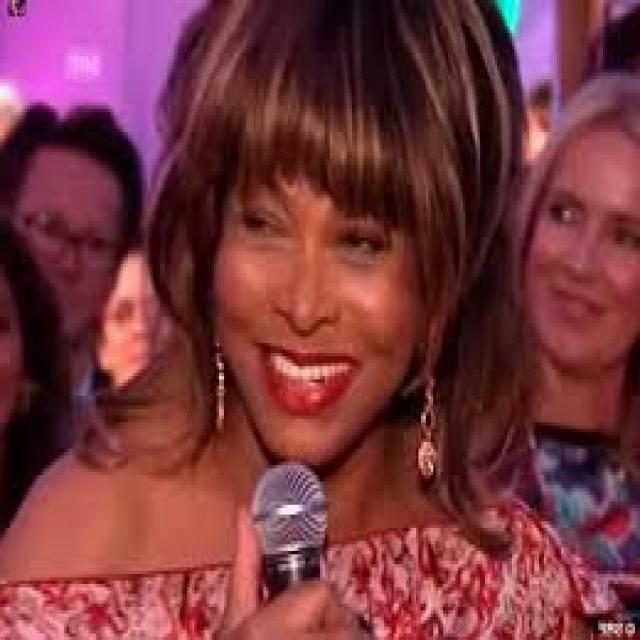normal_face: (153, 9, 490, 468)
